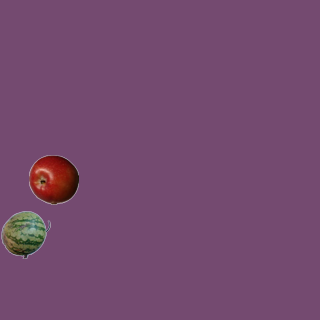Apple Braeburn: (28, 154, 78, 204)
Watermelon: (0, 209, 50, 259)
